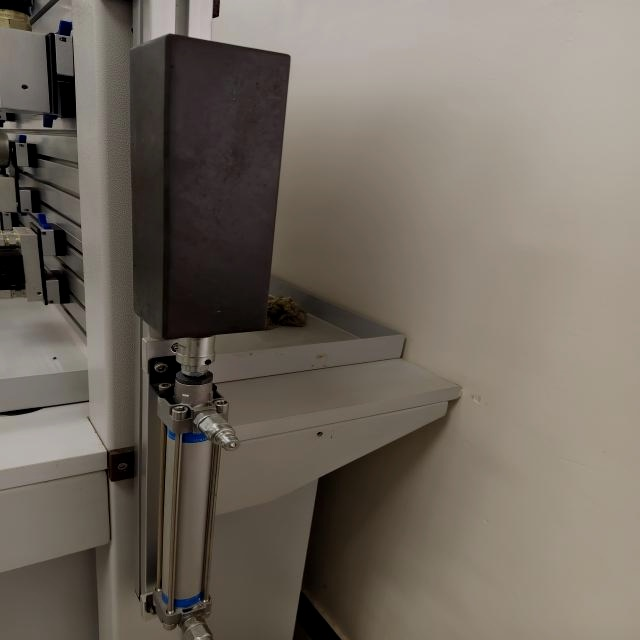load: (104, 13, 299, 640)
